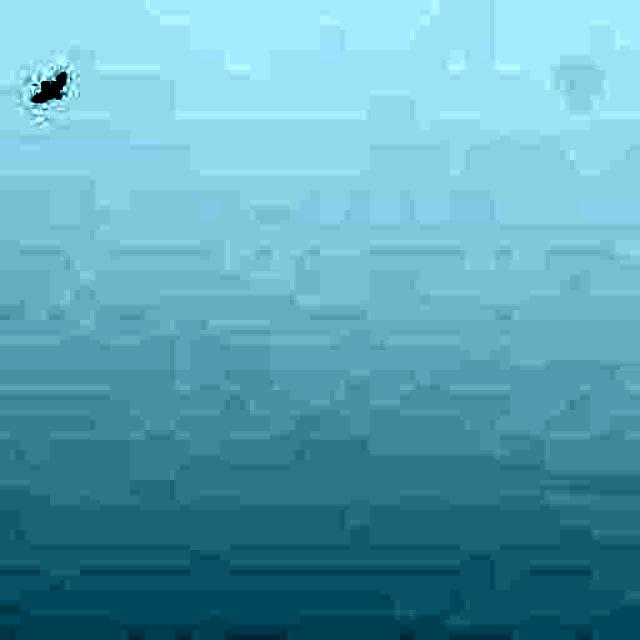airplane: (34, 72, 64, 100)
